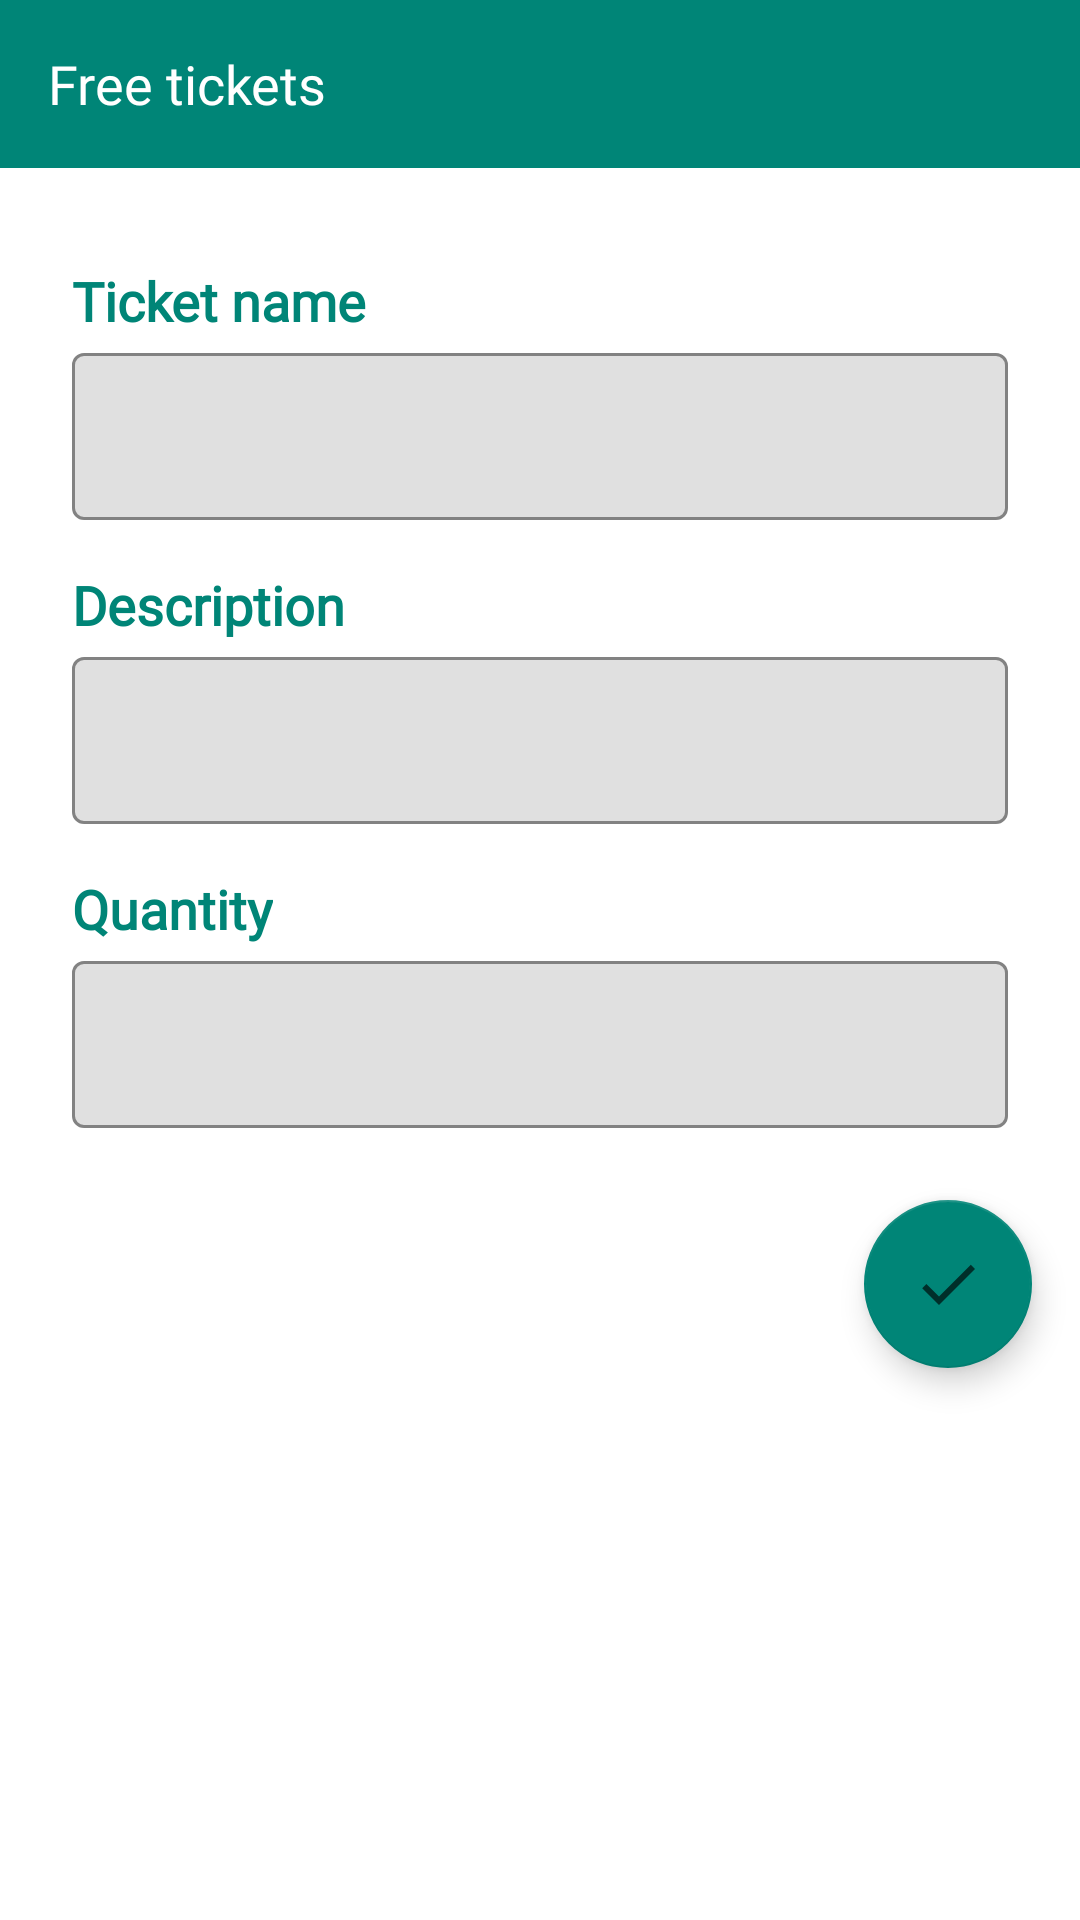

Named icons in this screenshot (1080×1920) and their bounding boxes, [x1=x1, y1=y1, x2=x2, y2=y2]:
done: [x1=864, y1=1200, x2=1032, y2=1368]
